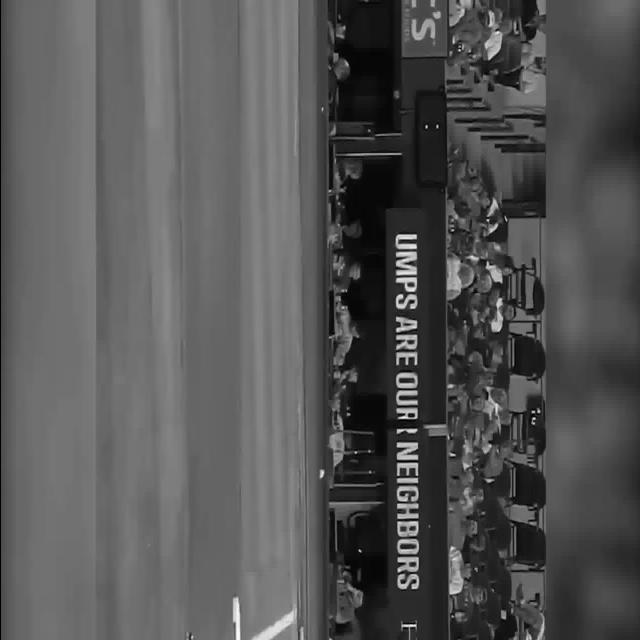base: (231, 596, 240, 640)
baseball: (318, 469, 324, 480)
